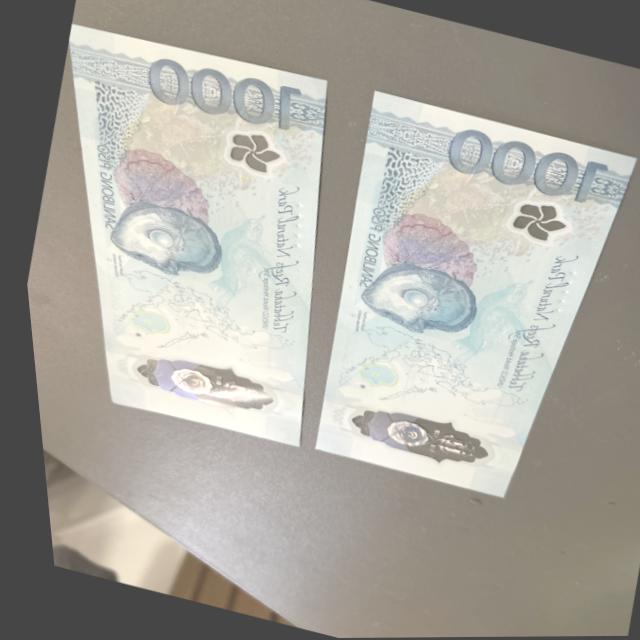clear_window: (334, 392, 491, 479), (118, 342, 270, 423)
sampaguita: (491, 191, 587, 255), (211, 121, 293, 181)
value: (123, 40, 308, 141)
